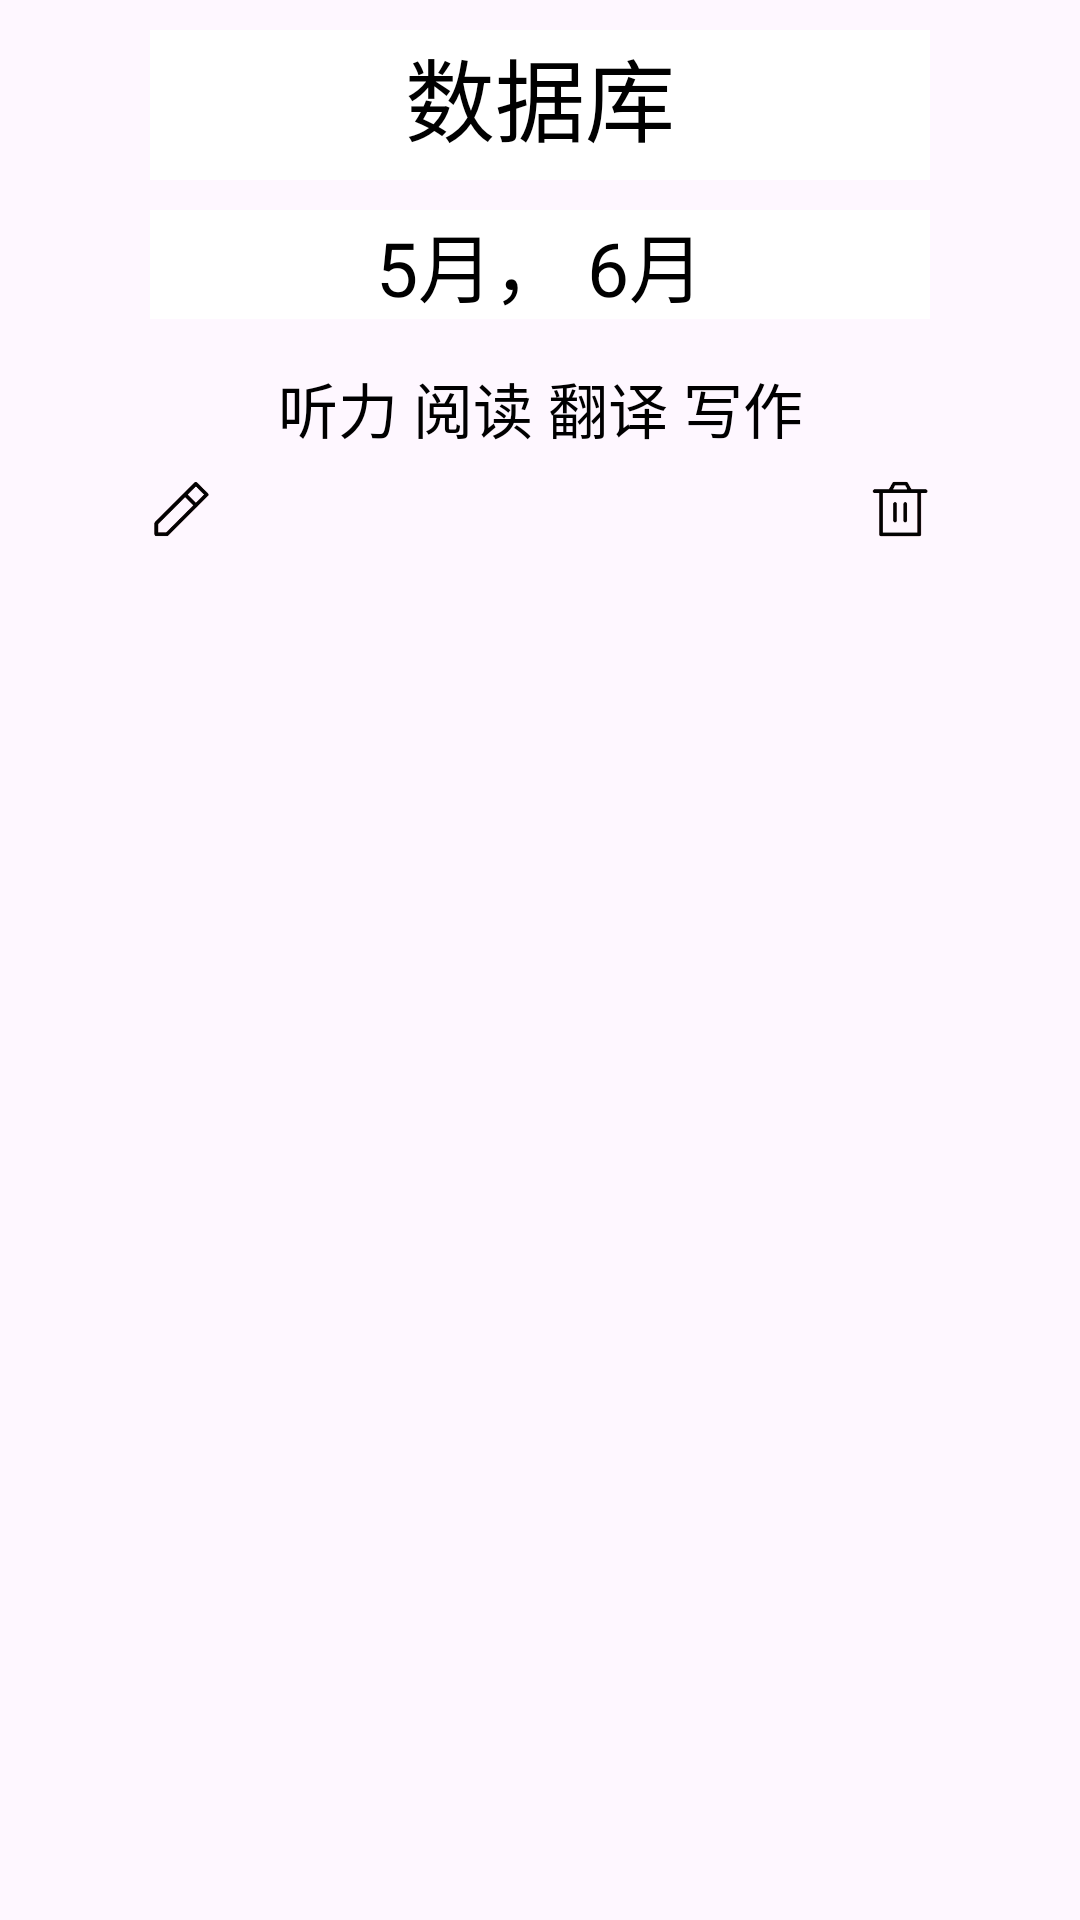

Where to tap for icons on this 1080px×1920px app screen, as [x,y]:
delete: [900,509]
